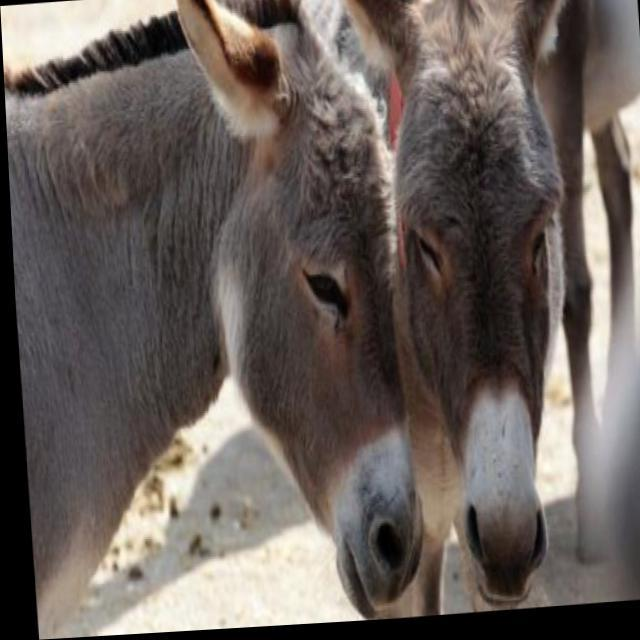Donkey: (0, 0, 420, 640), (336, 0, 618, 623), (475, 0, 640, 576)
